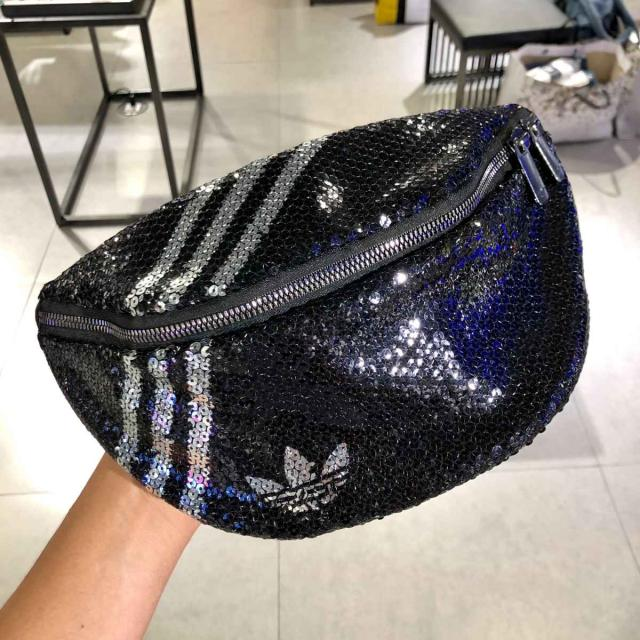Handbag: (33, 92, 627, 545)
